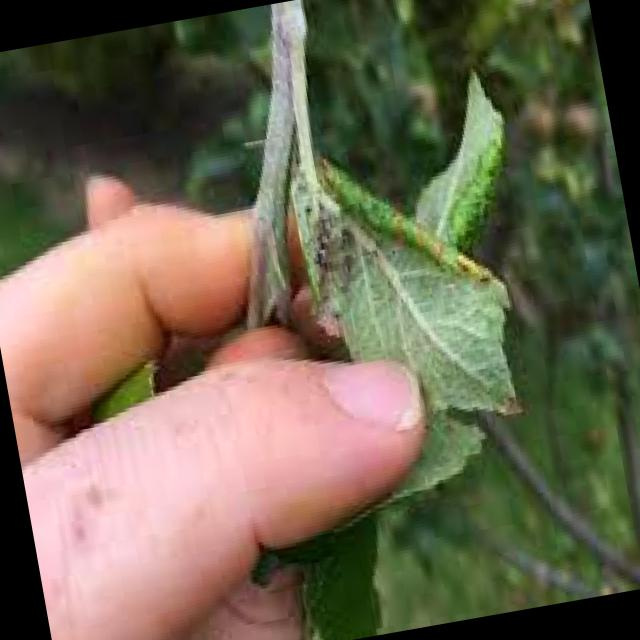aphid: (312, 204, 332, 230), (309, 222, 328, 248), (310, 240, 327, 268)
